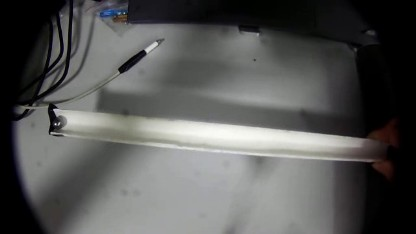gangzhu: (51, 115, 61, 129)
